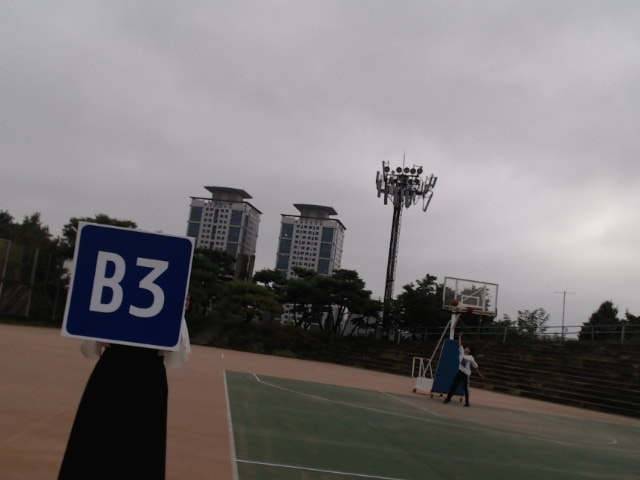delivery_b3: (65, 223, 192, 349)
